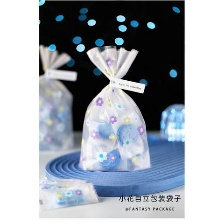snack: (74, 39, 154, 175), (39, 39, 79, 156), (38, 173, 104, 215)
